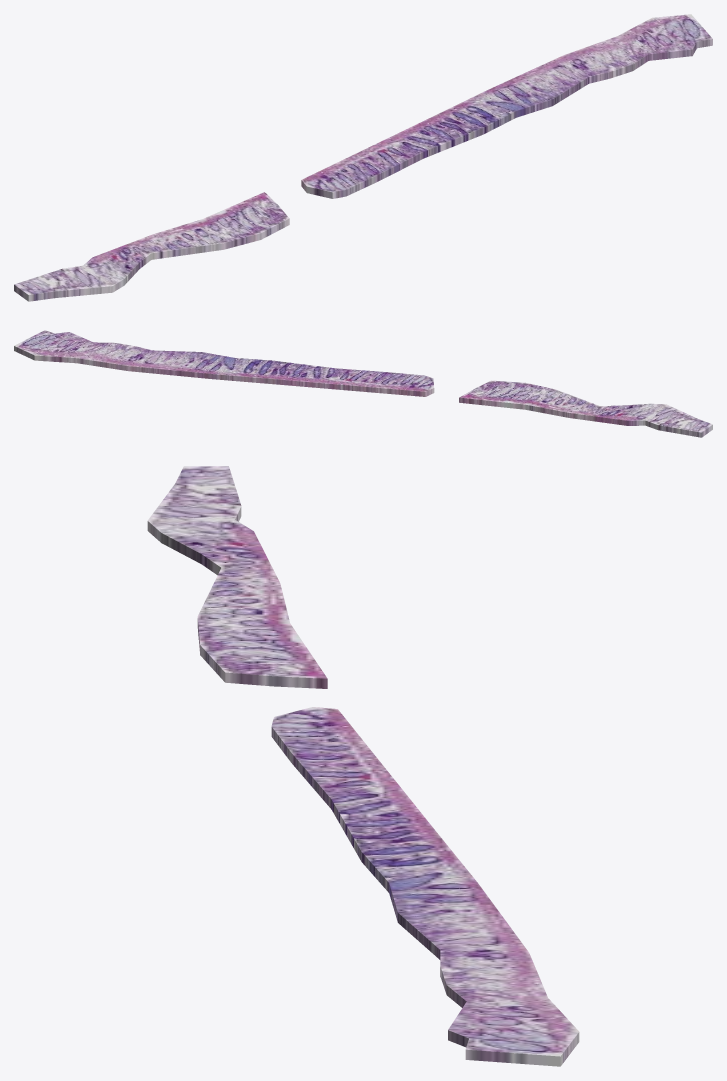
3 renders of one model, top to bottom at view 1: azimuth 30°, elevation 25°; view 2: azimuth 150°, elevation 25°; view 3: azimuth 270°, elevation 25°, orthographic. The views are drawn at different scales.
Visible parts, largest first — view 1: 平面; view 2: 平面; view 3: 平面.
Boxes of the visible parts, x1,y1,x2,y2 form: 平面: [14, 14, 712, 301]; 平面: [14, 330, 712, 437]; 平面: [147, 466, 579, 1066].
Size of the model in its own units: 18.23 by 0.147 by 5.63.
1 material, 1 textured.
